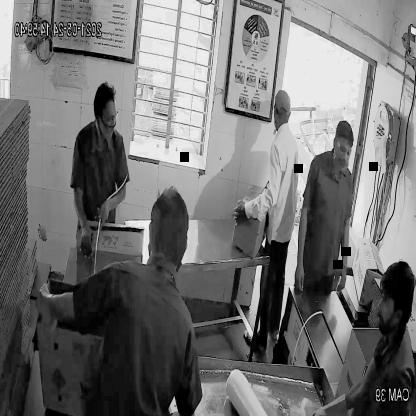goggles: (96, 107, 120, 127), (333, 140, 354, 158)
